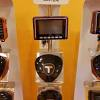terminal: (32, 54, 65, 83)
